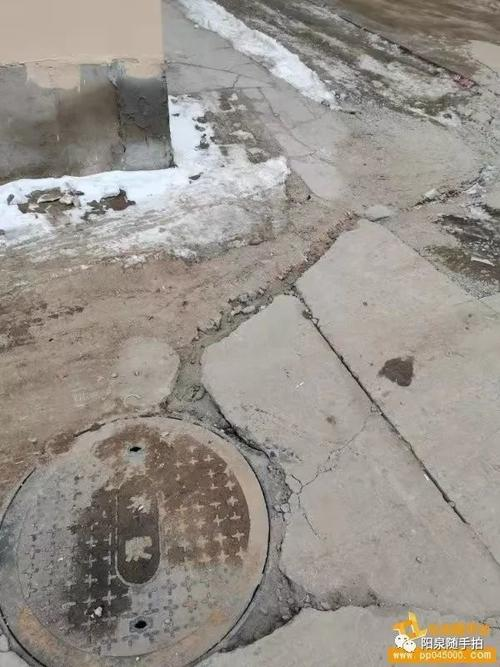circle: (5, 394, 357, 661)
